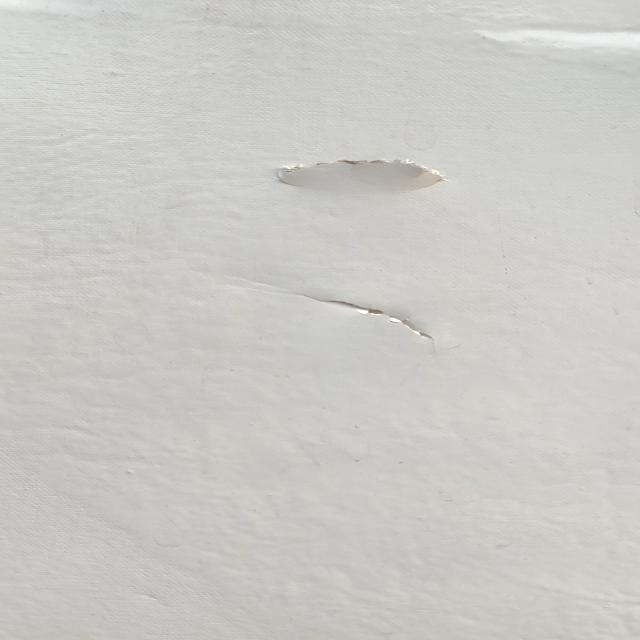Scratches: (236, 126, 465, 207), (244, 281, 495, 353)
